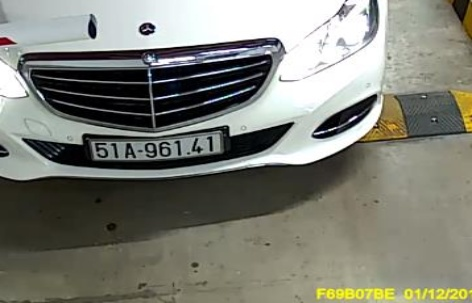plate: (86, 131, 227, 160)
